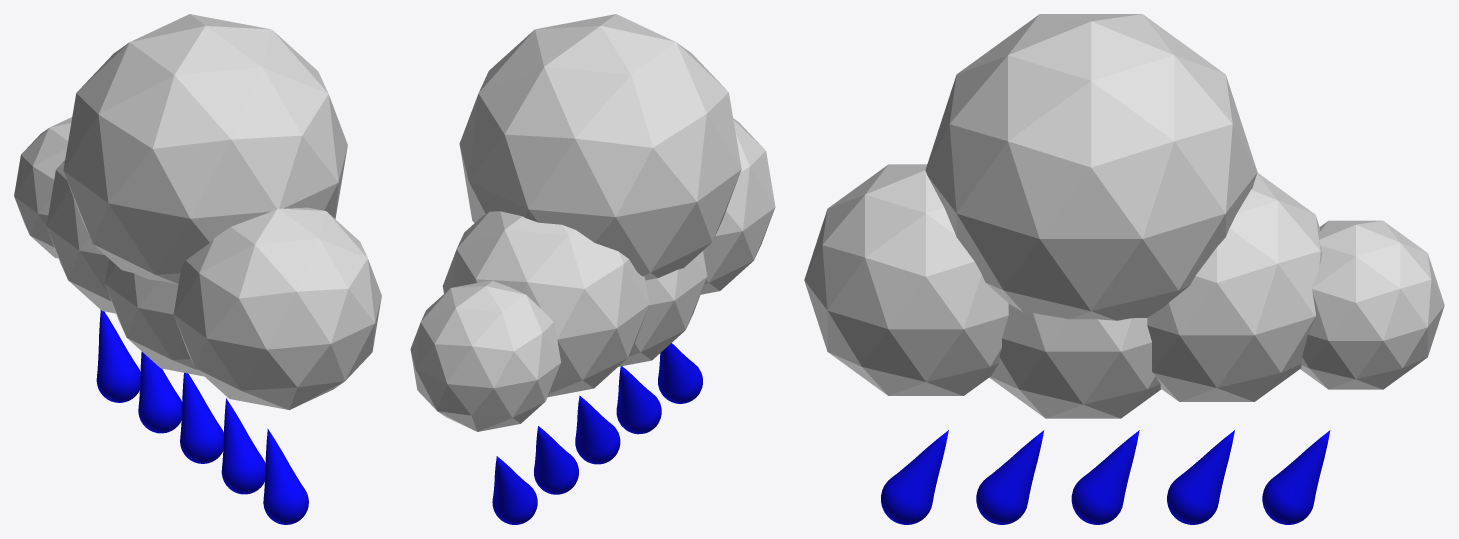
The model's file is Rainy.glb.
3 renders of one model, left to right at view 1: azimuth 30°, elevation 25°; view 2: azimuth 150°, elevation 25°; view 3: azimuth 270°, elevation 25°, orthographic. The views are drawn at different scales.
Parts seen in each view (by area): view 1: RainyCloud, RainyRainDrop; view 2: RainyCloud, RainyRainDrop; view 3: RainyCloud, RainyRainDrop.
Part boxes in pixels (x1,y1,x2,y2): RainyCloud: (14,14,381,410); RainyRainDrop: (96,310,308,524); RainyCloud: (410,14,775,431); RainyRainDrop: (492,343,702,524); RainyCloud: (804,14,1444,418); RainyRainDrop: (881,430,1330,524).
Bounding box in the file's own units: 1.9 × 3.32 × 3.85.
